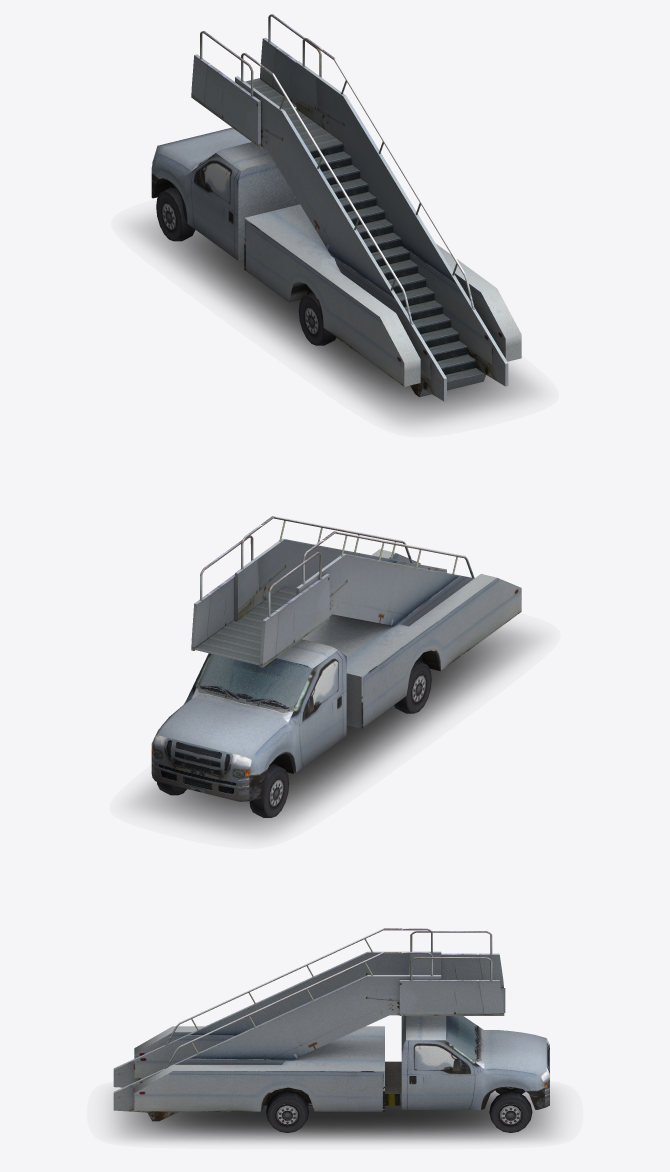
File: Generic.gltf
The picture shows the model from 3 angles, top to bottom: view 1: azimuth 30°, elevation 25°; view 2: azimuth 150°, elevation 25°; view 3: azimuth 270°, elevation 25°; orthographic projection. The views are drawn at different scales.
Parts seen in each view (by area): view 1: Generic; view 2: Generic; view 3: Generic.
Part boxes in pixels (bbox=[...]): Generic: bbox=[136, 14, 533, 423]; Generic: bbox=[135, 516, 534, 835]; Generic: bbox=[113, 928, 556, 1141].
Size of the model in its own units: 3.89 by 3.55 by 11.9.
